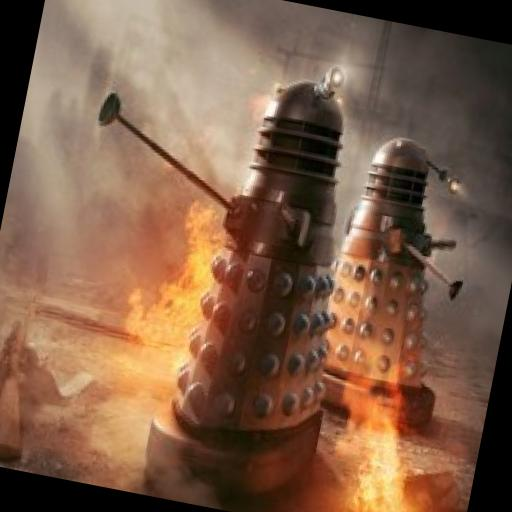dalek: (34, 28, 408, 486), (302, 126, 501, 441)
